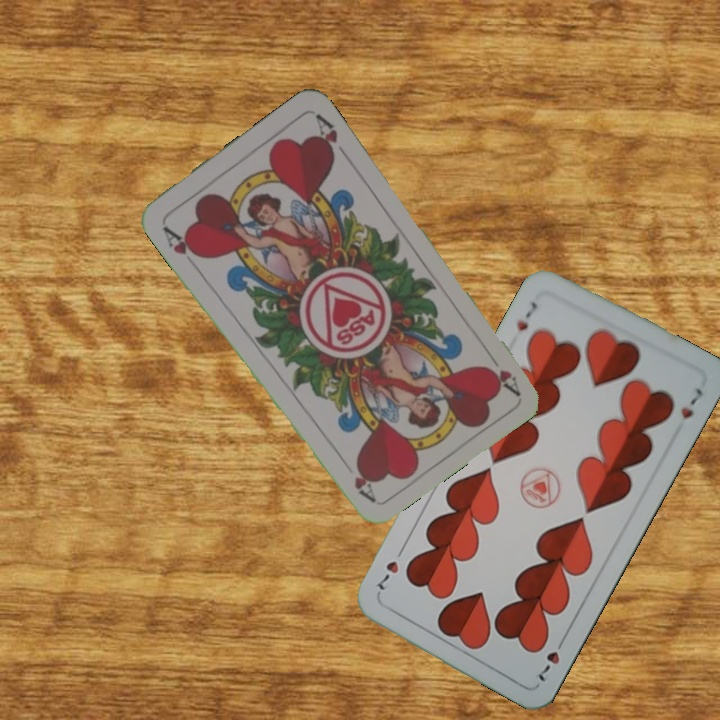H7: (534, 632, 568, 685), (512, 297, 541, 334)
HA: (480, 345, 522, 397), (159, 221, 205, 261)
